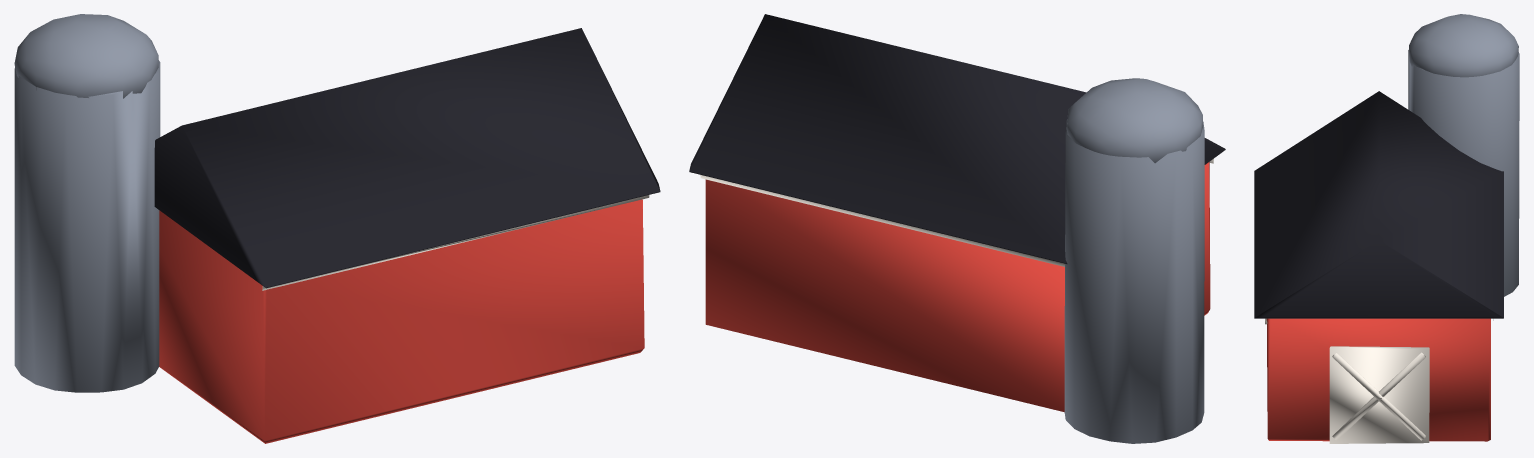
The model's file is barn.glb.
The picture shows the model from 3 angles, left to right: view 1: azimuth 30°, elevation 25°; view 2: azimuth 150°, elevation 25°; view 3: azimuth 270°, elevation 25°; orthographic projection. The views are drawn at different scales.
Visible parts, largest first — view 1: barn; view 2: barn; view 3: barn.
Boxes of the visible parts, x1,y1,x2,y2 form: barn: (14,14,660,443); barn: (689,14,1225,443); barn: (1254,14,1519,443).
Bounding box in the file's own units: 15.79 × 10.17 × 9.43.
Materials: 1 (1 with a texture image).
